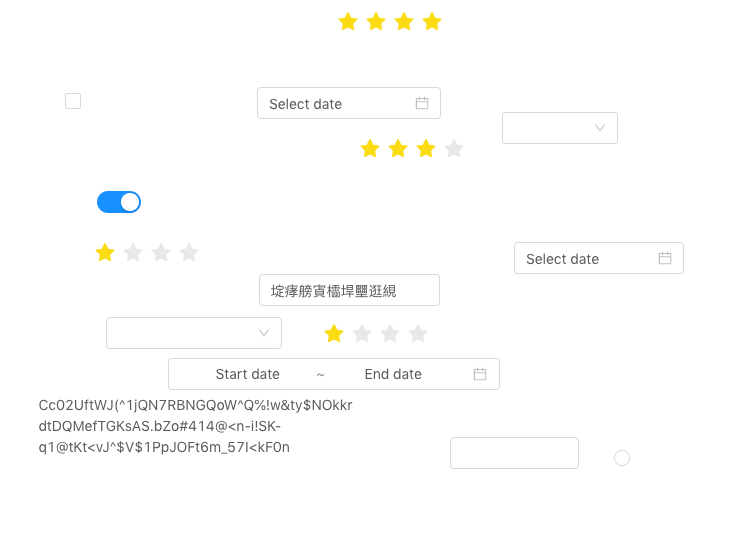Checkbox: (65, 90, 81, 111)
DatePicker: (257, 87, 441, 119), (514, 242, 684, 274)
Input: (259, 274, 440, 306), (450, 437, 579, 469)
Radio: (614, 447, 630, 467)
RangePicker: (168, 358, 510, 390)
Rate: (338, 5, 458, 37), (324, 317, 444, 349), (95, 236, 215, 268), (360, 132, 480, 164)
Select: (106, 317, 282, 349), (502, 112, 618, 144)
Switch: (97, 190, 141, 214)
Text: (39, 394, 358, 496)
